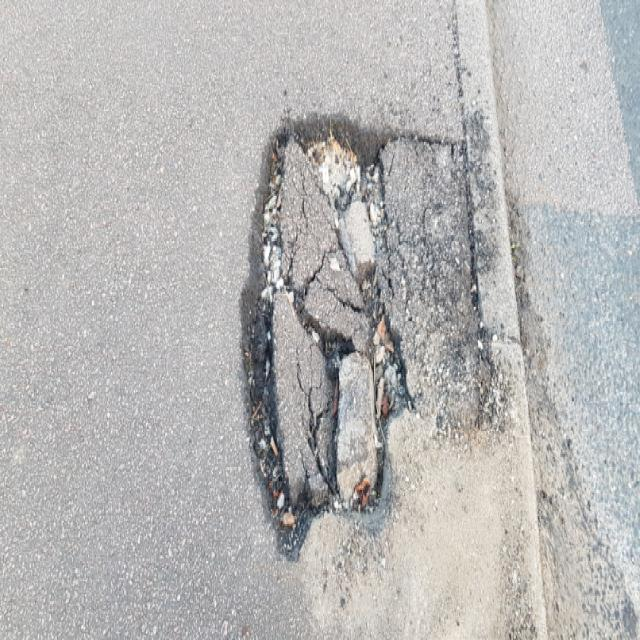pothole: (237, 97, 492, 564)
